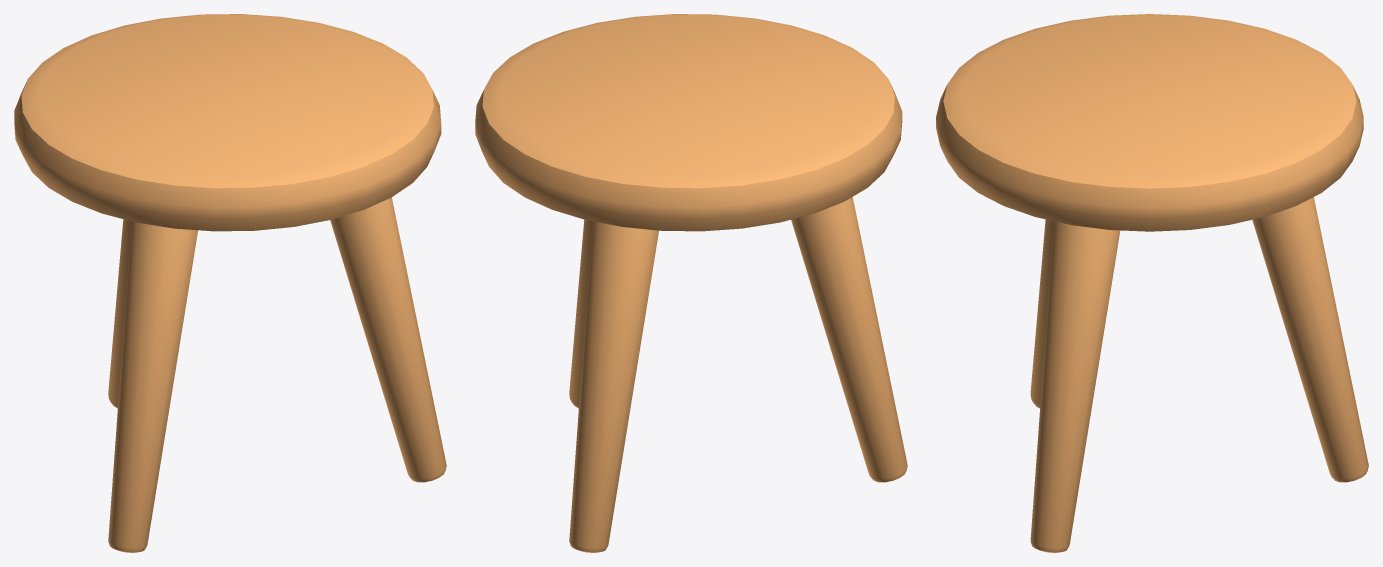
Rendered from banquinho_tres_pes_laranja.glb.
3 renders of one model, left to right at view 1: azimuth 30°, elevation 25°; view 2: azimuth 150°, elevation 25°; view 3: azimuth 270°, elevation 25°, orthographic.
Parts seen in each view (by area): view 1: banquinho_tres_pes_laranja; view 2: banquinho_tres_pes_laranja; view 3: banquinho_tres_pes_laranja.
Boxes of the visible parts, <box> form: banquinho_tres_pes_laranja: <box>14,14,446,552</box>; banquinho_tres_pes_laranja: <box>475,14,907,552</box>; banquinho_tres_pes_laranja: <box>936,14,1368,552</box>.
Bounding box in the file's own units: 0.31 × 0.307 × 0.3137.
Materials: 1 (1 with a texture image).
